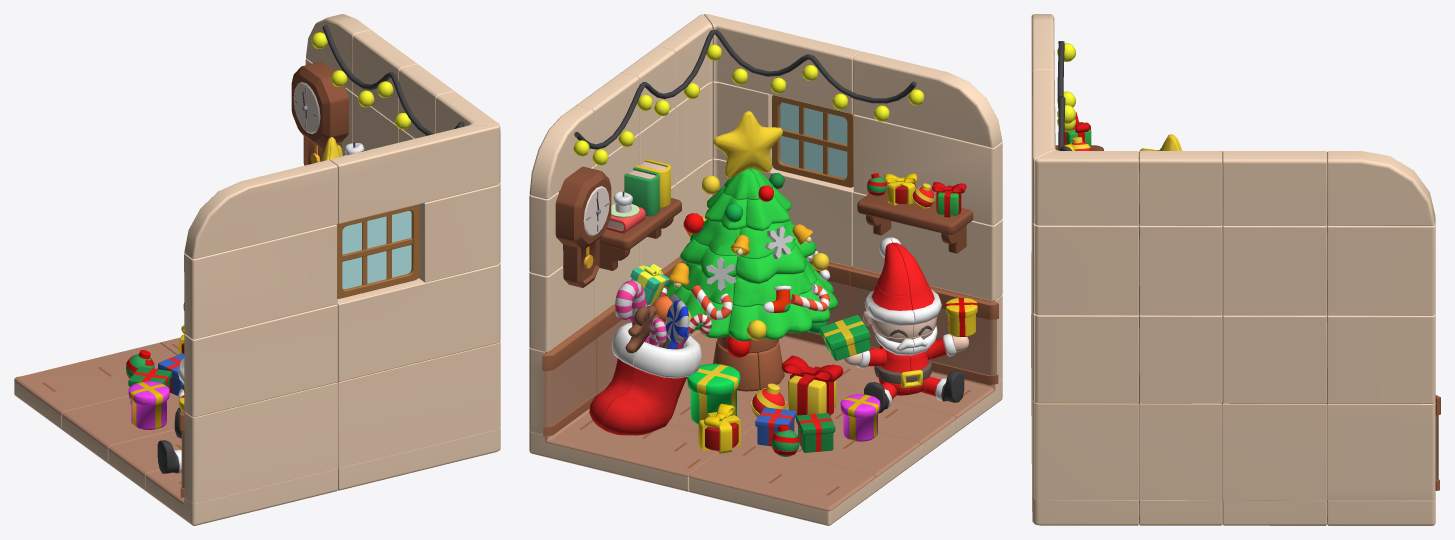
The model's file is Level_P_04.fbx.
The picture shows the model from 3 angles, left to right: view 1: azimuth 30°, elevation 25°; view 2: azimuth 150°, elevation 25°; view 3: azimuth 270°, elevation 25°; orthographic projection. The views are drawn at different scales.
Visible parts, largest first — view 1: Room_Diorama_23, Room_Diorama_24, Room_Diorama_17, Room_Diorama_12, Room_Diorama_18, Room_Diorama_5, Room_Diorama_6, Room_Diorama_11, SpellBook01_014, Room_Diorama_29, Room_Diorama_32, SpellBook01_004 (+13 smaller); view 2: Room_Diorama_29, Room_Diorama_12, Room_Diorama_6, Room_Diorama_25, Room_Diorama_5, Room_Diorama_18, SpellBook01_014, Room_Diorama_19, Room_Diorama_24, Room_Diorama_17, Room_Diorama_13, Room_Diorama_30 (+76 smaller); view 3: Room_Diorama_19, Room_Diorama_20, Room_Diorama_22, Room_Diorama_7, Room_Diorama_13, Room_Diorama_10, Room_Diorama_8, Room_Diorama_14, Room_Diorama_16, Room_Diorama_21, Room_Diorama_2, Room_Diorama_4 (+12 smaller).
Part boxes in pixels (<box>): Room_Diorama_23: <box>337,342,500,467</box>; Room_Diorama_24: <box>179,382,338,503</box>; Room_Diorama_17: <box>337,264,499,381</box>; Room_Diorama_12: <box>184,224,337,339</box>; Room_Diorama_18: <box>184,304,337,417</box>; Room_Diorama_5: <box>330,123,499,223</box>; Room_Diorama_6: <box>184,160,337,259</box>; Room_Diorama_11: <box>418,184,499,282</box>; SpellBook01_014: <box>336,204,419,298</box>; Room_Diorama_29: <box>14,342,176,429</box>; Room_Diorama_32: <box>145,468,337,525</box>; SpellBook01_004: <box>291,61,348,147</box>; Room_Diorama_29: <box>689,442,875,525</box>; Room_Diorama_12: <box>853,114,1002,225</box>; Room_Diorama_6: <box>853,51,1002,147</box>; Room_Diorama_25: <box>529,408,718,491</box>; Room_Diorama_5: <box>704,14,860,113</box>; Room_Diorama_18: <box>852,192,1002,300</box>; SpellBook01_014: <box>772,95,853,187</box>; Room_Diorama_19: <box>529,319,598,436</box>; Room_Diorama_24: <box>850,267,1002,384</box>; Room_Diorama_17: <box>712,158,853,266</box>; Room_Diorama_13: <box>529,266,594,351</box>; Room_Diorama_30: <box>741,409,920,491</box>; Room_Diorama_19: <box>1327,395,1440,500</box>; Room_Diorama_20: <box>1222,403,1326,500</box>; Room_Diorama_22: <box>1034,402,1138,500</box>; Room_Diorama_7: <box>1327,218,1435,315</box>; Room_Diorama_13: <box>1327,314,1435,403</box>; Room_Diorama_10: <box>1035,225,1138,315</box>; Room_Diorama_8: <box>1222,225,1326,315</box>; Room_Diorama_14: <box>1222,315,1326,403</box>; Room_Diorama_16: <box>1035,314,1138,403</box>; Room_Diorama_21: <box>1139,402,1222,500</box>; Room_Diorama_2: <box>1222,151,1327,225</box>; Room_Diorama_4: <box>1035,150,1138,225</box>.
Size of the model in its own units: 15.79 by 15.59 by 15.79.
